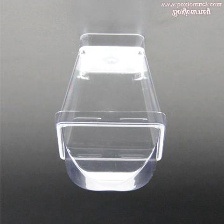glass: (46, 20, 175, 196)
